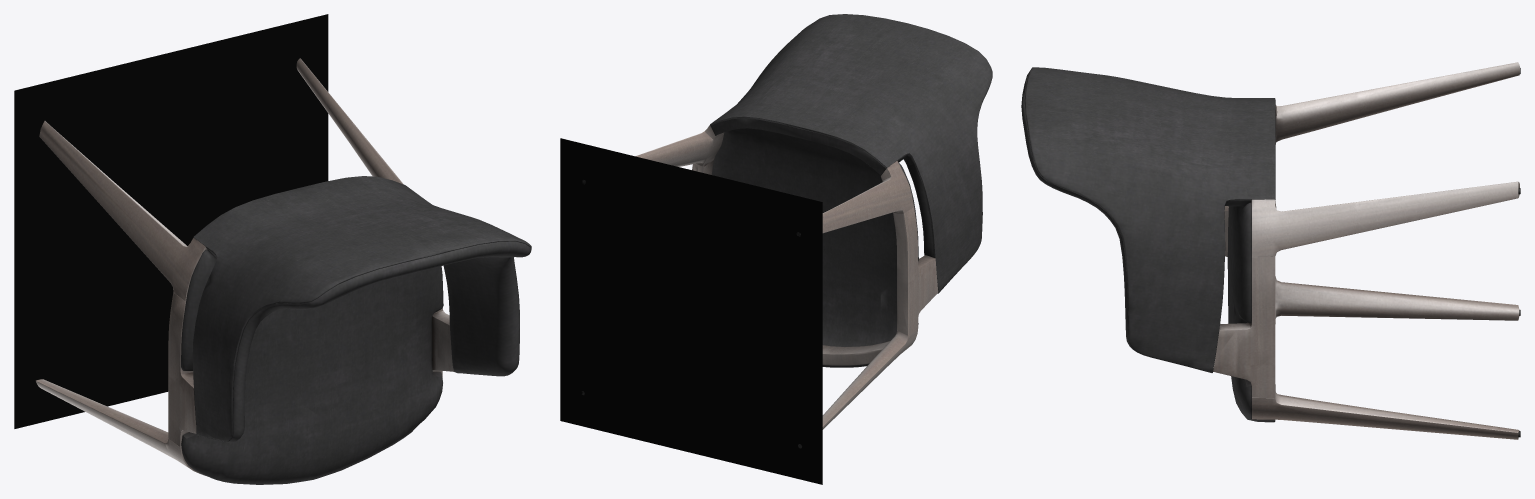
Rendered from raw_model.glb.
3 views of the same model, side by side, from view 1: azimuth 30°, elevation 25°; view 2: azimuth 150°, elevation 25°; view 3: azimuth 270°, elevation 25° (orthographic). The views are drawn at different scales.
Visible parts, largest first — view 1: raw_model.031; view 2: raw_model.031; view 3: raw_model.031.
Boxes of the visible parts, x1,y1,x2,y2 form: raw_model.031: [14, 14, 531, 484]; raw_model.031: [560, 14, 992, 484]; raw_model.031: [1021, 62, 1520, 439].
Size of the model in its own units: 0.5908 by 0.6084 by 0.8492.
Materials: 1 (1 with a texture image).
